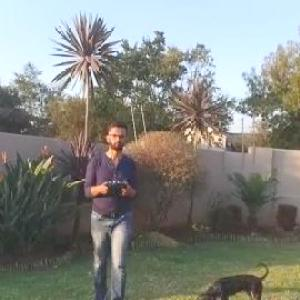follow: (80, 111, 139, 299)
null: (197, 260, 271, 299)
